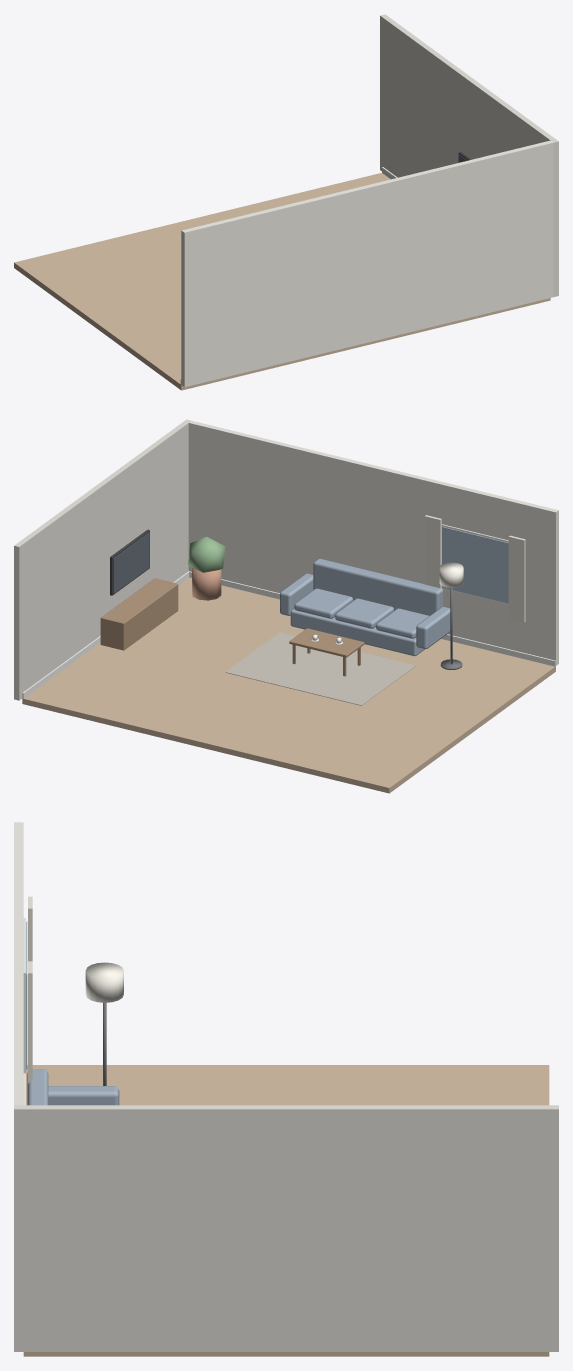
The model's file is salida.casa_amigos.fbx.
3 views of the same model, one above another, from view 1: azimuth 30°, elevation 25°; view 2: azimuth 150°, elevation 25°; view 3: azimuth 270°, elevation 25° (orthographic). The views are drawn at different scales.
Visible parts, largest first — view 1: Muro del fondo, Piso, Muro lateral; view 2: Piso, Muro del fondo, Muro lateral, Alfombra, Respaldo, Vidrio, Mueble de la tele, Base del sillón, Cortina.001, Pantalla, Cortina, Zócalo (+10 smaller); view 3: Muro lateral, Piso, Muro del fondo, Pantalla de la lámpara, Brazo.001, Respaldo.
Part boxes in pixels (x1,y1,x2,y2): Muro del fondo: (181, 140, 553, 387); Piso: (14, 173, 550, 390); Muro lateral: (380, 14, 558, 296); Piso: (22, 577, 555, 793); Muro del fondo: (188, 421, 558, 665); Muro lateral: (14, 419, 191, 700); Alfombra: (225, 632, 415, 705); Respaldo: (313, 558, 443, 615); Vidrio: (442, 526, 508, 603); Mueble de la tele: (100, 578, 178, 650); Base del sillón: (290, 608, 424, 656); Cortina.001: (508, 535, 525, 622); Pantalla: (113, 532, 149, 593); Cortina: (424, 515, 441, 588); Zócalo: (189, 571, 555, 666); Muro lateral: (14, 1105, 558, 1351); Piso: (23, 1065, 549, 1356); Muro del fondo: (14, 822, 23, 1105); Pantalla de la lámpara: (85, 962, 123, 1002); Brazo.001: (48, 1086, 119, 1105); Respaldo: (27, 1069, 48, 1105).
Bounding box in the file's own units: 7.1 × 2.9 × 5.7.
